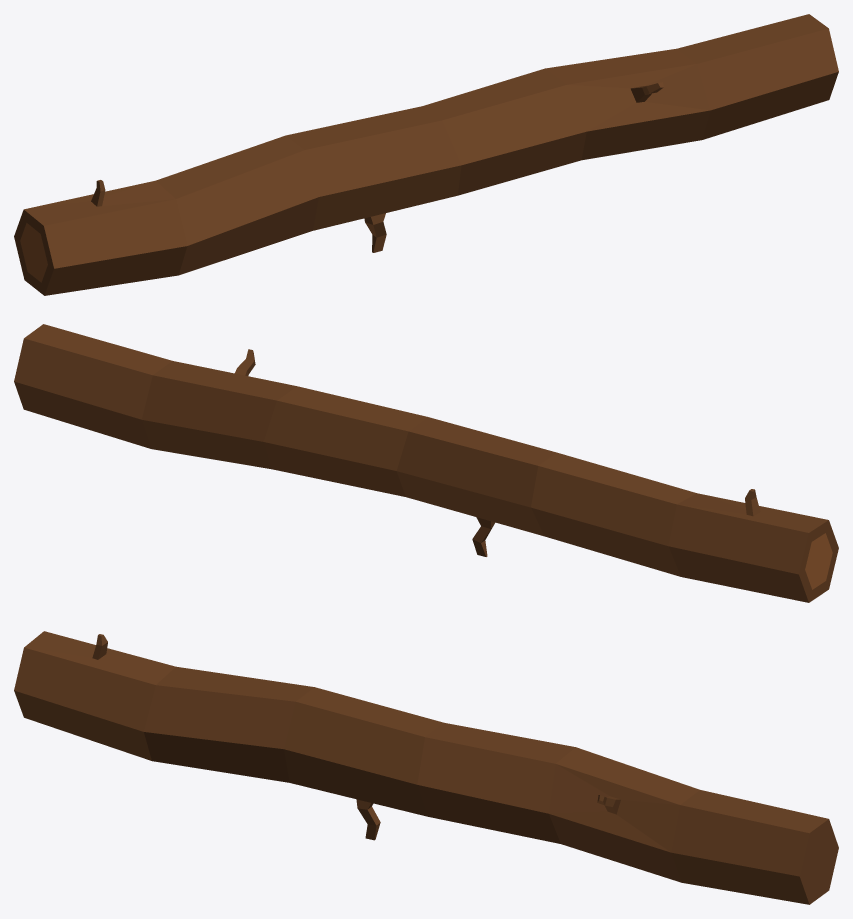
File: FireWood 001.fbx
3 views of the same model, one above another, from view 1: azimuth 30°, elevation 25°; view 2: azimuth 150°, elevation 25°; view 3: azimuth 330°, elevation 25° (orthographic).
Visible parts, largest first — view 1: FireWood 001; view 2: FireWood 001; view 3: FireWood 001.
Boxes of the visible parts, left/top/right/bottom form: FireWood 001: left=14, top=14, right=838, bottom=295; FireWood 001: left=14, top=324, right=838, bottom=602; FireWood 001: left=14, top=631, right=838, bottom=904.
Size of the model in its own units: 259 by 42.66 by 31.14.
